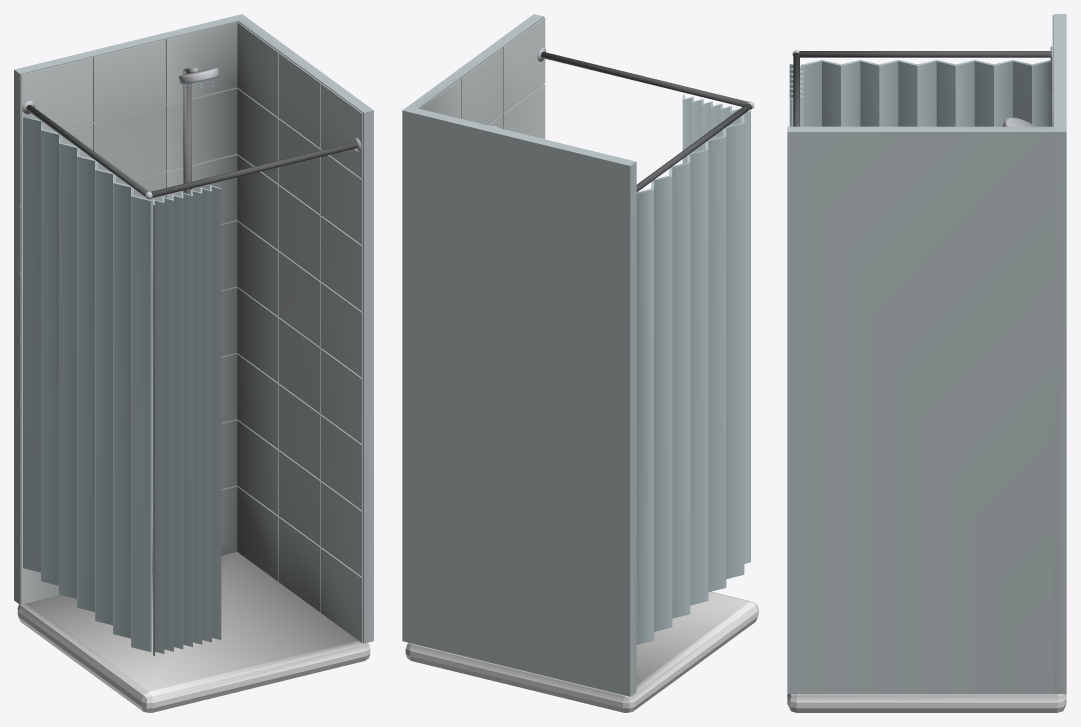
The model's file is showerStall.glb.
3 renders of one model, left to right at view 1: azimuth 30°, elevation 25°; view 2: azimuth 150°, elevation 25°; view 3: azimuth 270°, elevation 25°, orthographic. The views are drawn at different scales.
Parts seen in each view (by area): view 1: body, curtain; view 2: body, curtain; view 3: body, curtain.
Boxes of the visible parts, box(x1,y1,x2,y2) form: body: box(14, 14, 373, 712); curtain: box(153, 185, 221, 656); body: box(402, 14, 758, 712); curtain: box(682, 94, 750, 563); body: box(787, 14, 1066, 712); curtain: box(789, 64, 803, 126).
Size of the model in its own units: 0.9 by 2.08 by 0.9.
